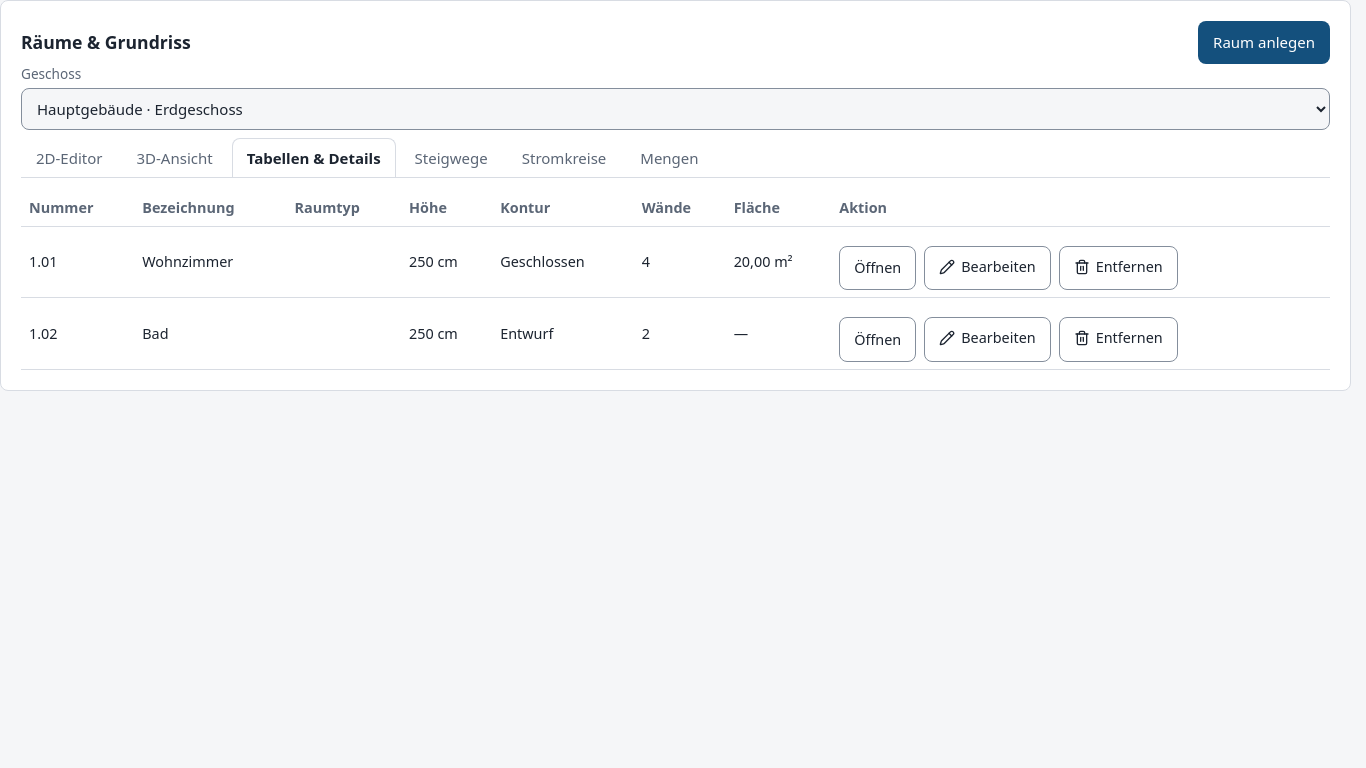
Test: Raum öffnen › zeigt Kontur, Waende und Oeffnungen
Expected: the text "Wohnzimmer" is shown, [134,226,287,298]
Click the button with aria-label "Raum Wohnzimmer öffnen" at point(878, 268), box [839,246,916,290]
(page scrolled)
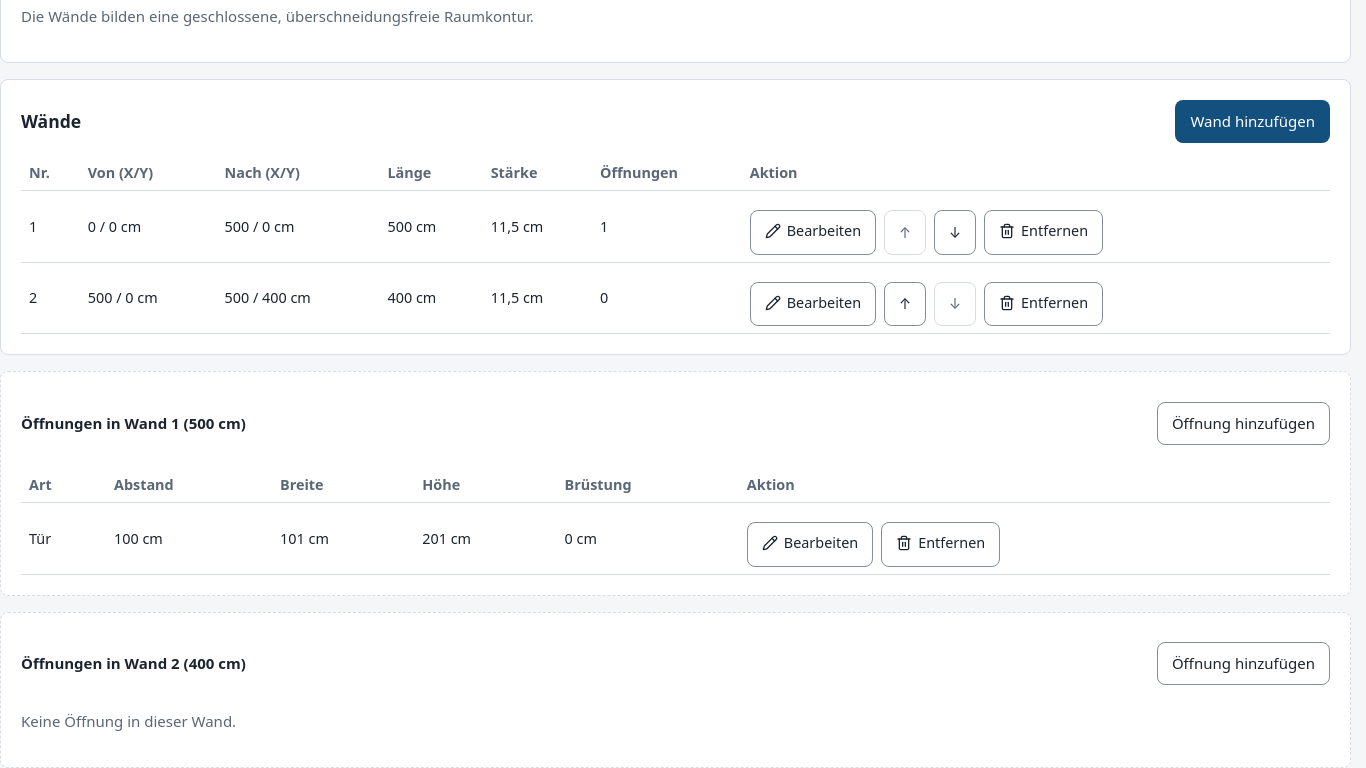
Expected: the heading "Öffnungen in Wand 1 (500 cm)" is shown, [21,412,246,435]
Expected: the text "Tür" is shown, [21,503,106,574]
